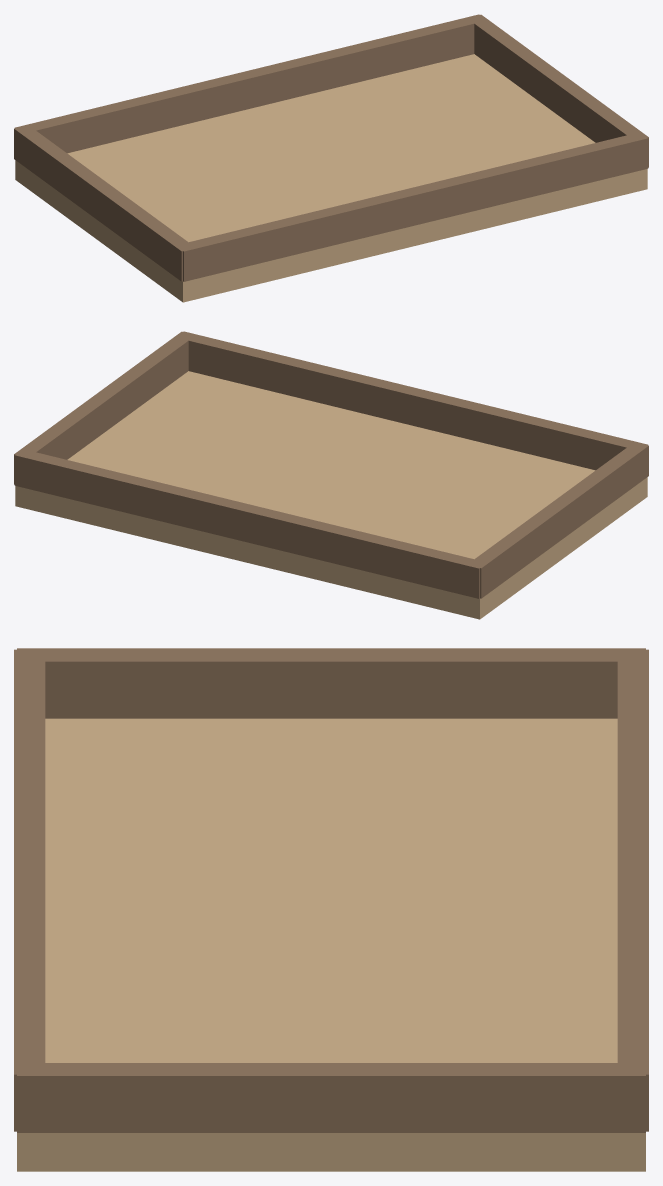
Rendered from feudal-japan-castle-town-serving-tray-2dad76f5__26484.glb.
The picture shows the model from 3 angles, top to bottom: view 1: azimuth 30°, elevation 25°; view 2: azimuth 150°, elevation 25°; view 3: azimuth 270°, elevation 25°; orthographic projection. The views are drawn at different scales.
Visible parts, largest first — view 1: serving-tray; view 2: serving-tray; view 3: serving-tray.
Part boxes in pixels (left/top/right/bottom): serving-tray: left=14, top=14, right=648, bottom=302; serving-tray: left=14, top=331, right=648, bottom=619; serving-tray: left=14, top=648, right=648, bottom=1171.
Bounding box in the file's own units: 0.805 × 0.085 × 0.505.
